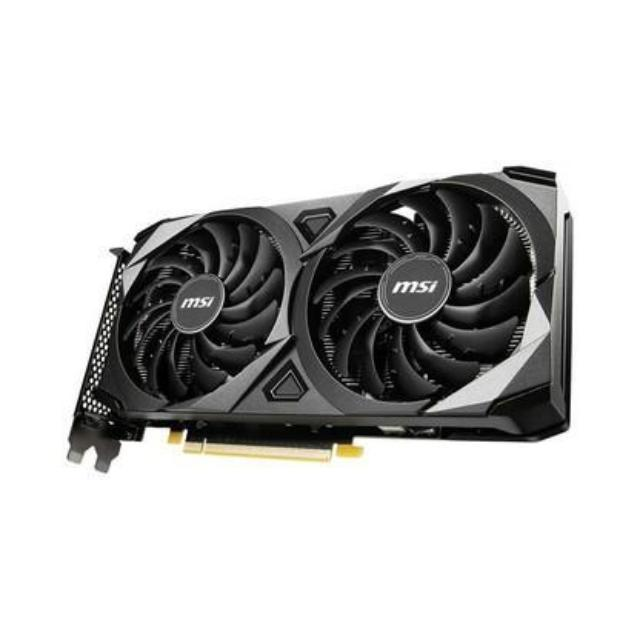GPU: (57, 156, 574, 473)
